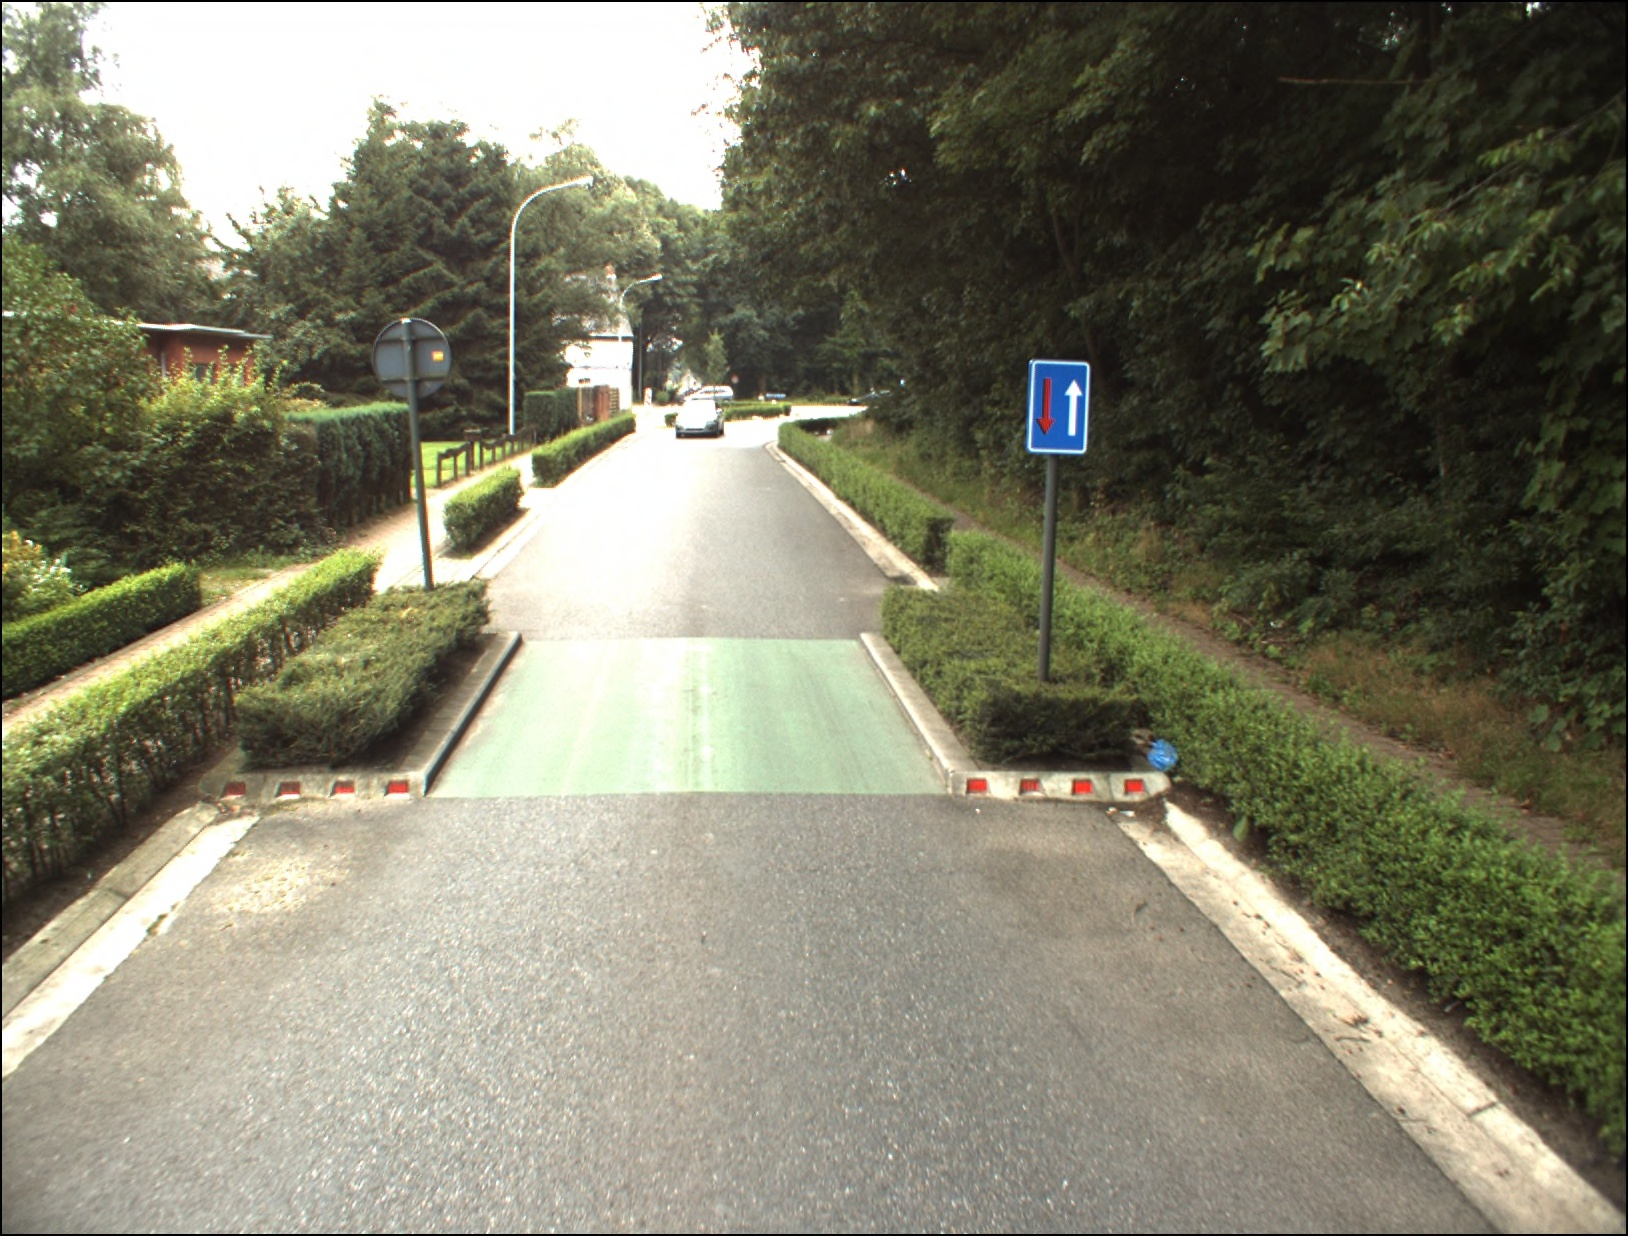roadnarrow1: (1030, 360, 1088, 453)
